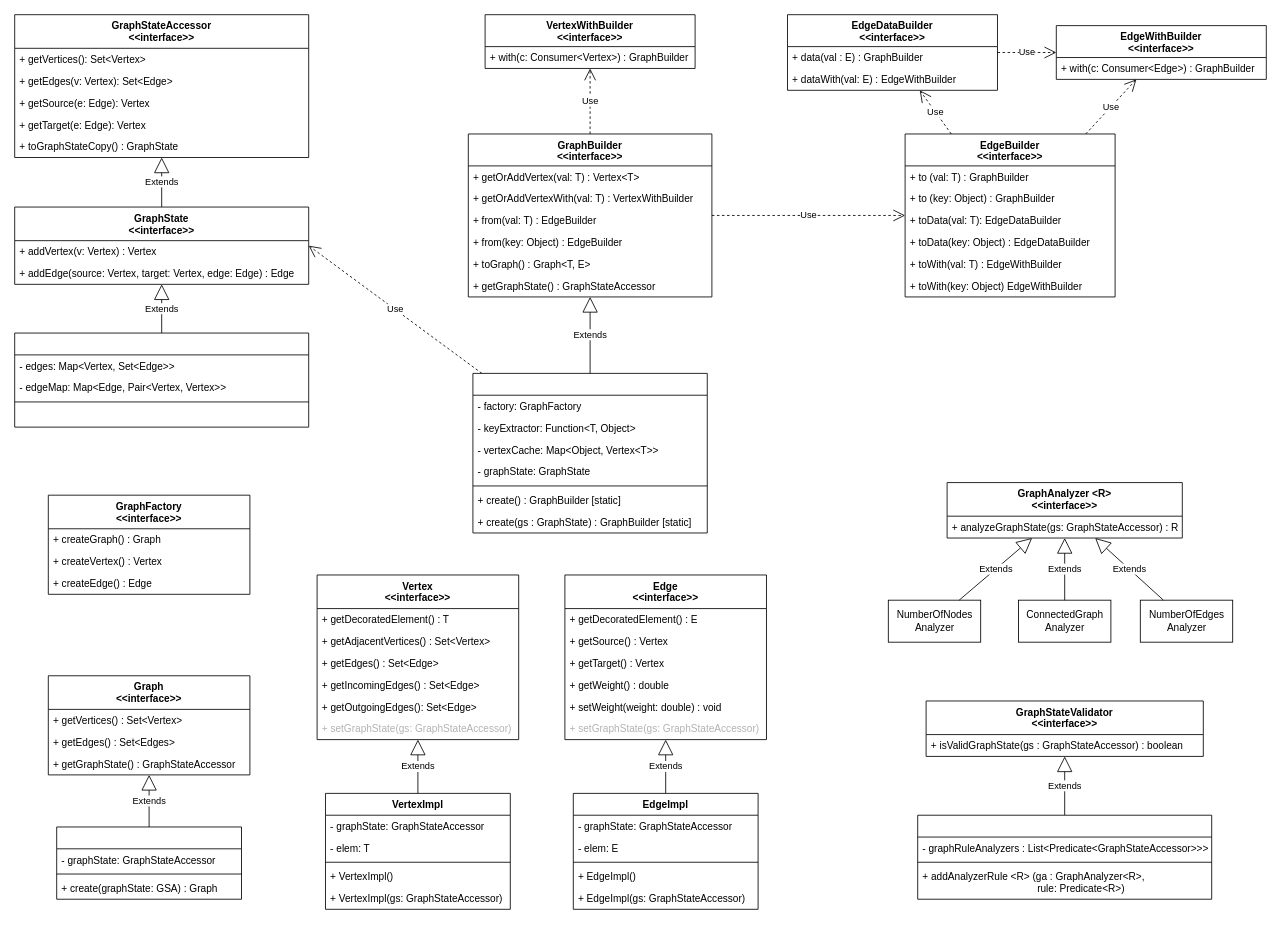
The diagram is 1281 pixels wide and 927 high, and some of its shapes have lost their labels. Each missing label, with the box of its shape:
GraphBuilderImpl: (472, 373, 707, 533)
GraphImpl: (56, 826, 242, 899)
GraphStateImpl: (14, 332, 309, 427)
RuleBasedGraphStateValidator: (917, 814, 1212, 899)
